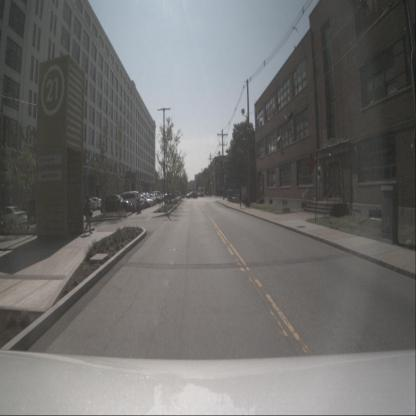human-pedestrian-adult: (83, 194, 93, 235), (244, 187, 250, 208), (238, 189, 242, 209)
vehicle-bus-rigid: (197, 188, 205, 198)
vehicle-car: (0, 206, 28, 228), (100, 195, 134, 213), (118, 191, 140, 213), (138, 195, 154, 206), (87, 197, 101, 208), (146, 194, 161, 204), (186, 191, 198, 199)
vehicle-motorcycle: (135, 196, 141, 214)
